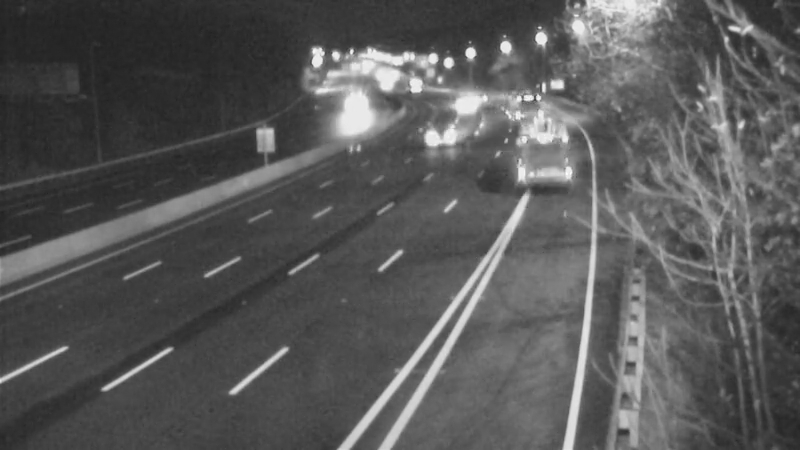vehicle: (387, 59, 437, 109), (495, 78, 545, 128), (438, 81, 488, 131), (407, 117, 457, 167), (512, 124, 562, 174), (328, 85, 378, 135)
